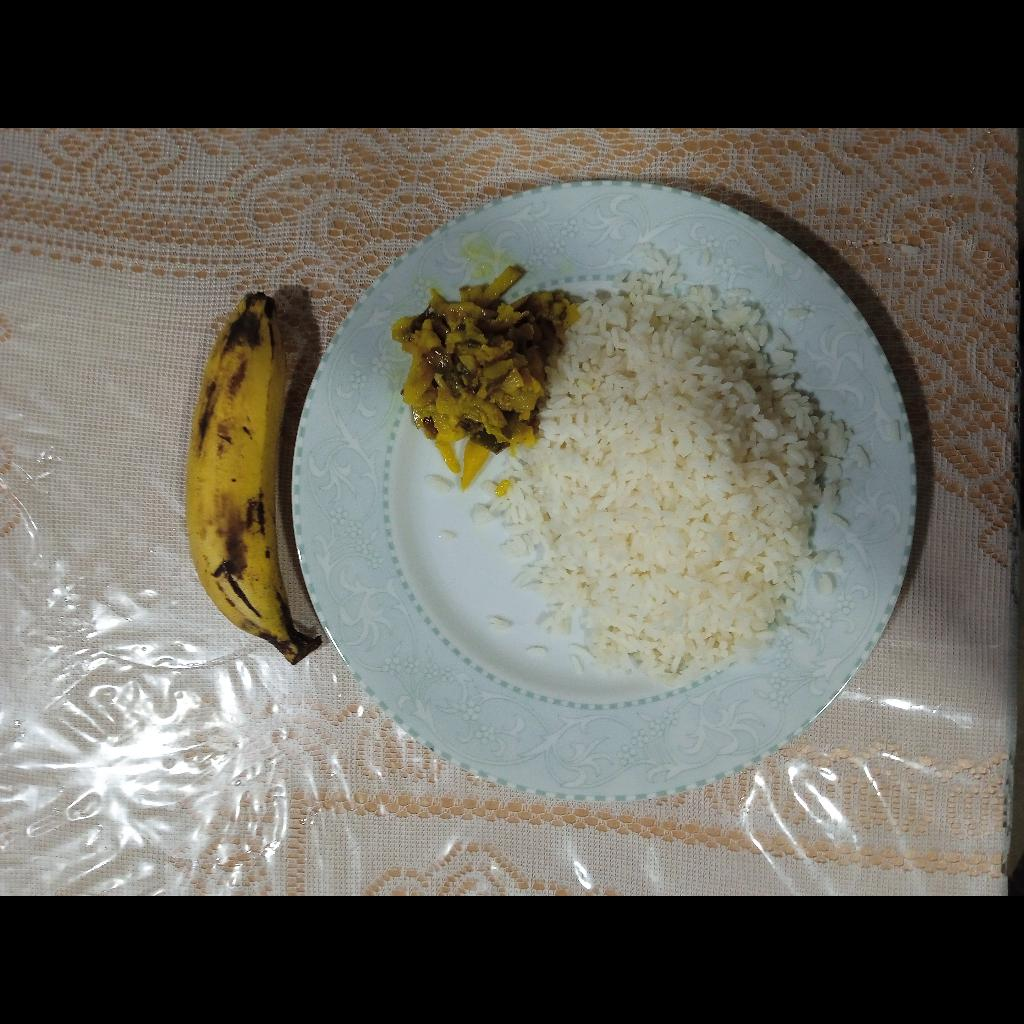banana: (185, 289, 324, 666)
rice: (471, 243, 854, 689)
vegetable: (389, 266, 577, 491)
